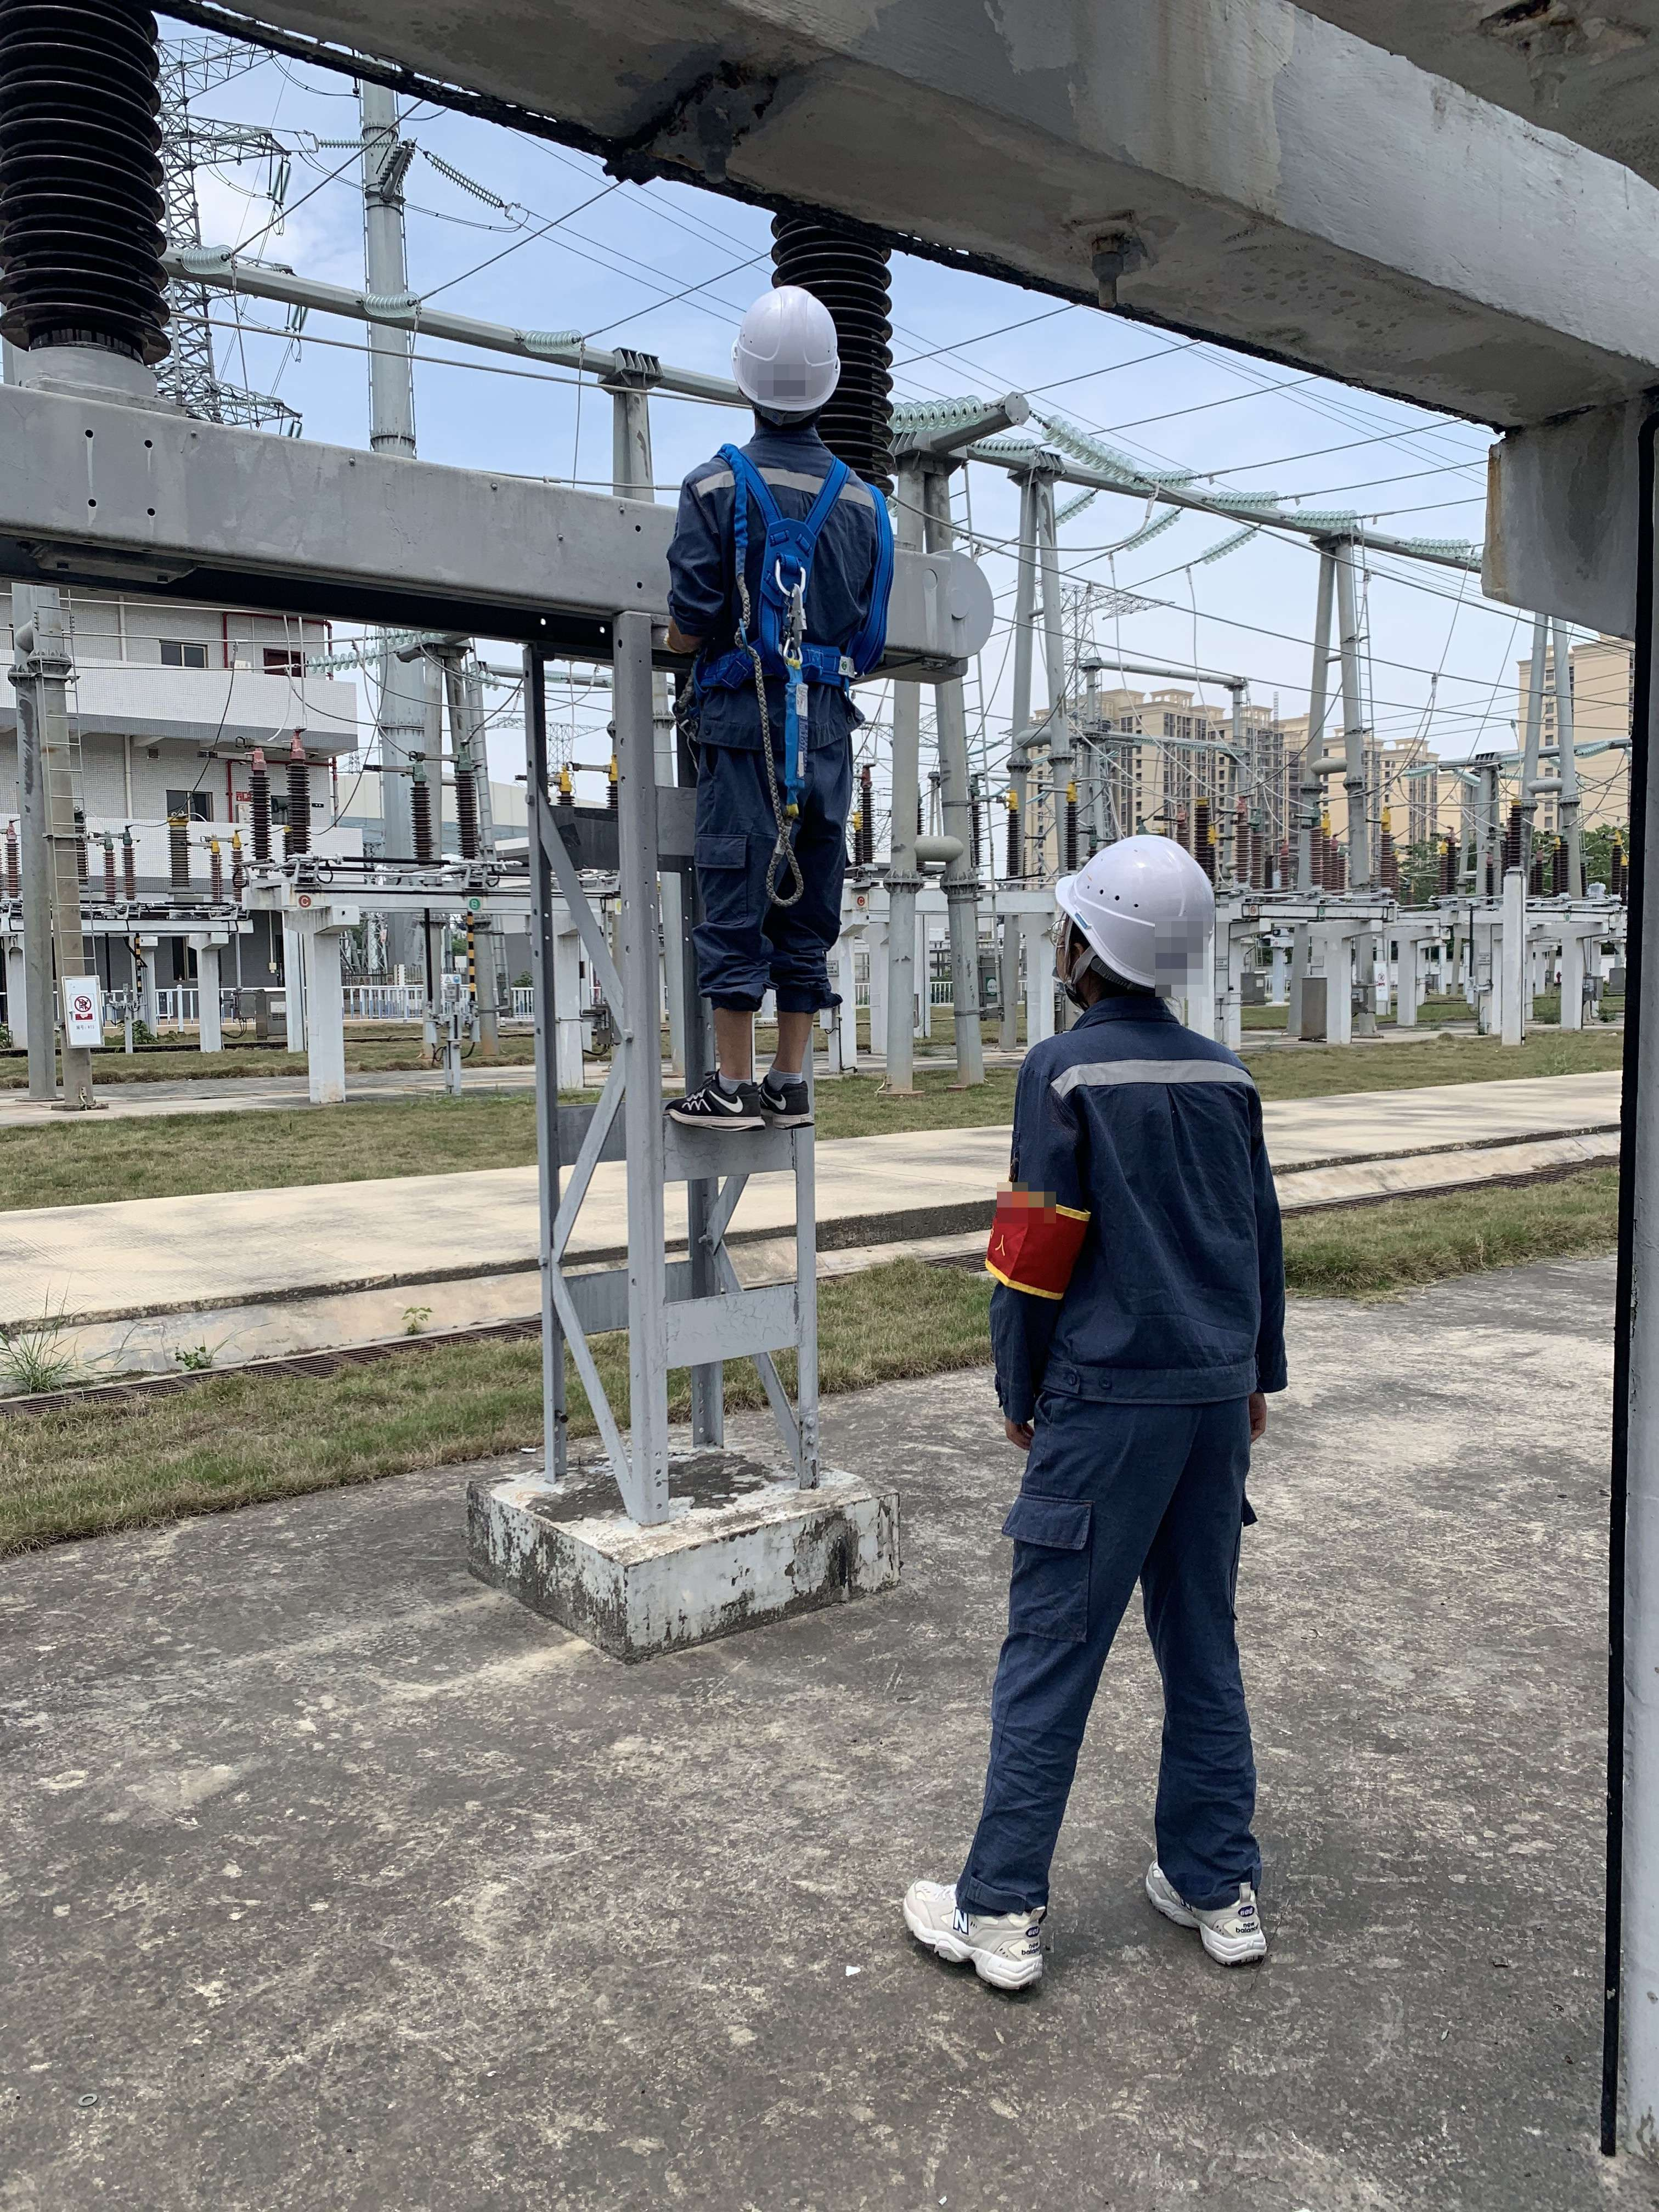downsuit: (995, 1421, 1269, 1898), (687, 768, 847, 1000)
upsuit: (981, 1031, 1274, 1395), (680, 456, 864, 747)
wrongbottom: (704, 970, 767, 1087), (775, 968, 835, 1082)
